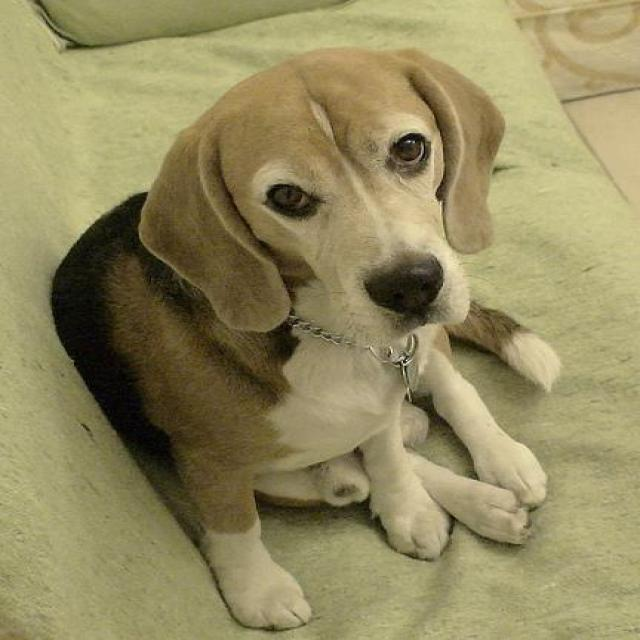beagle: (53, 47, 563, 625)
